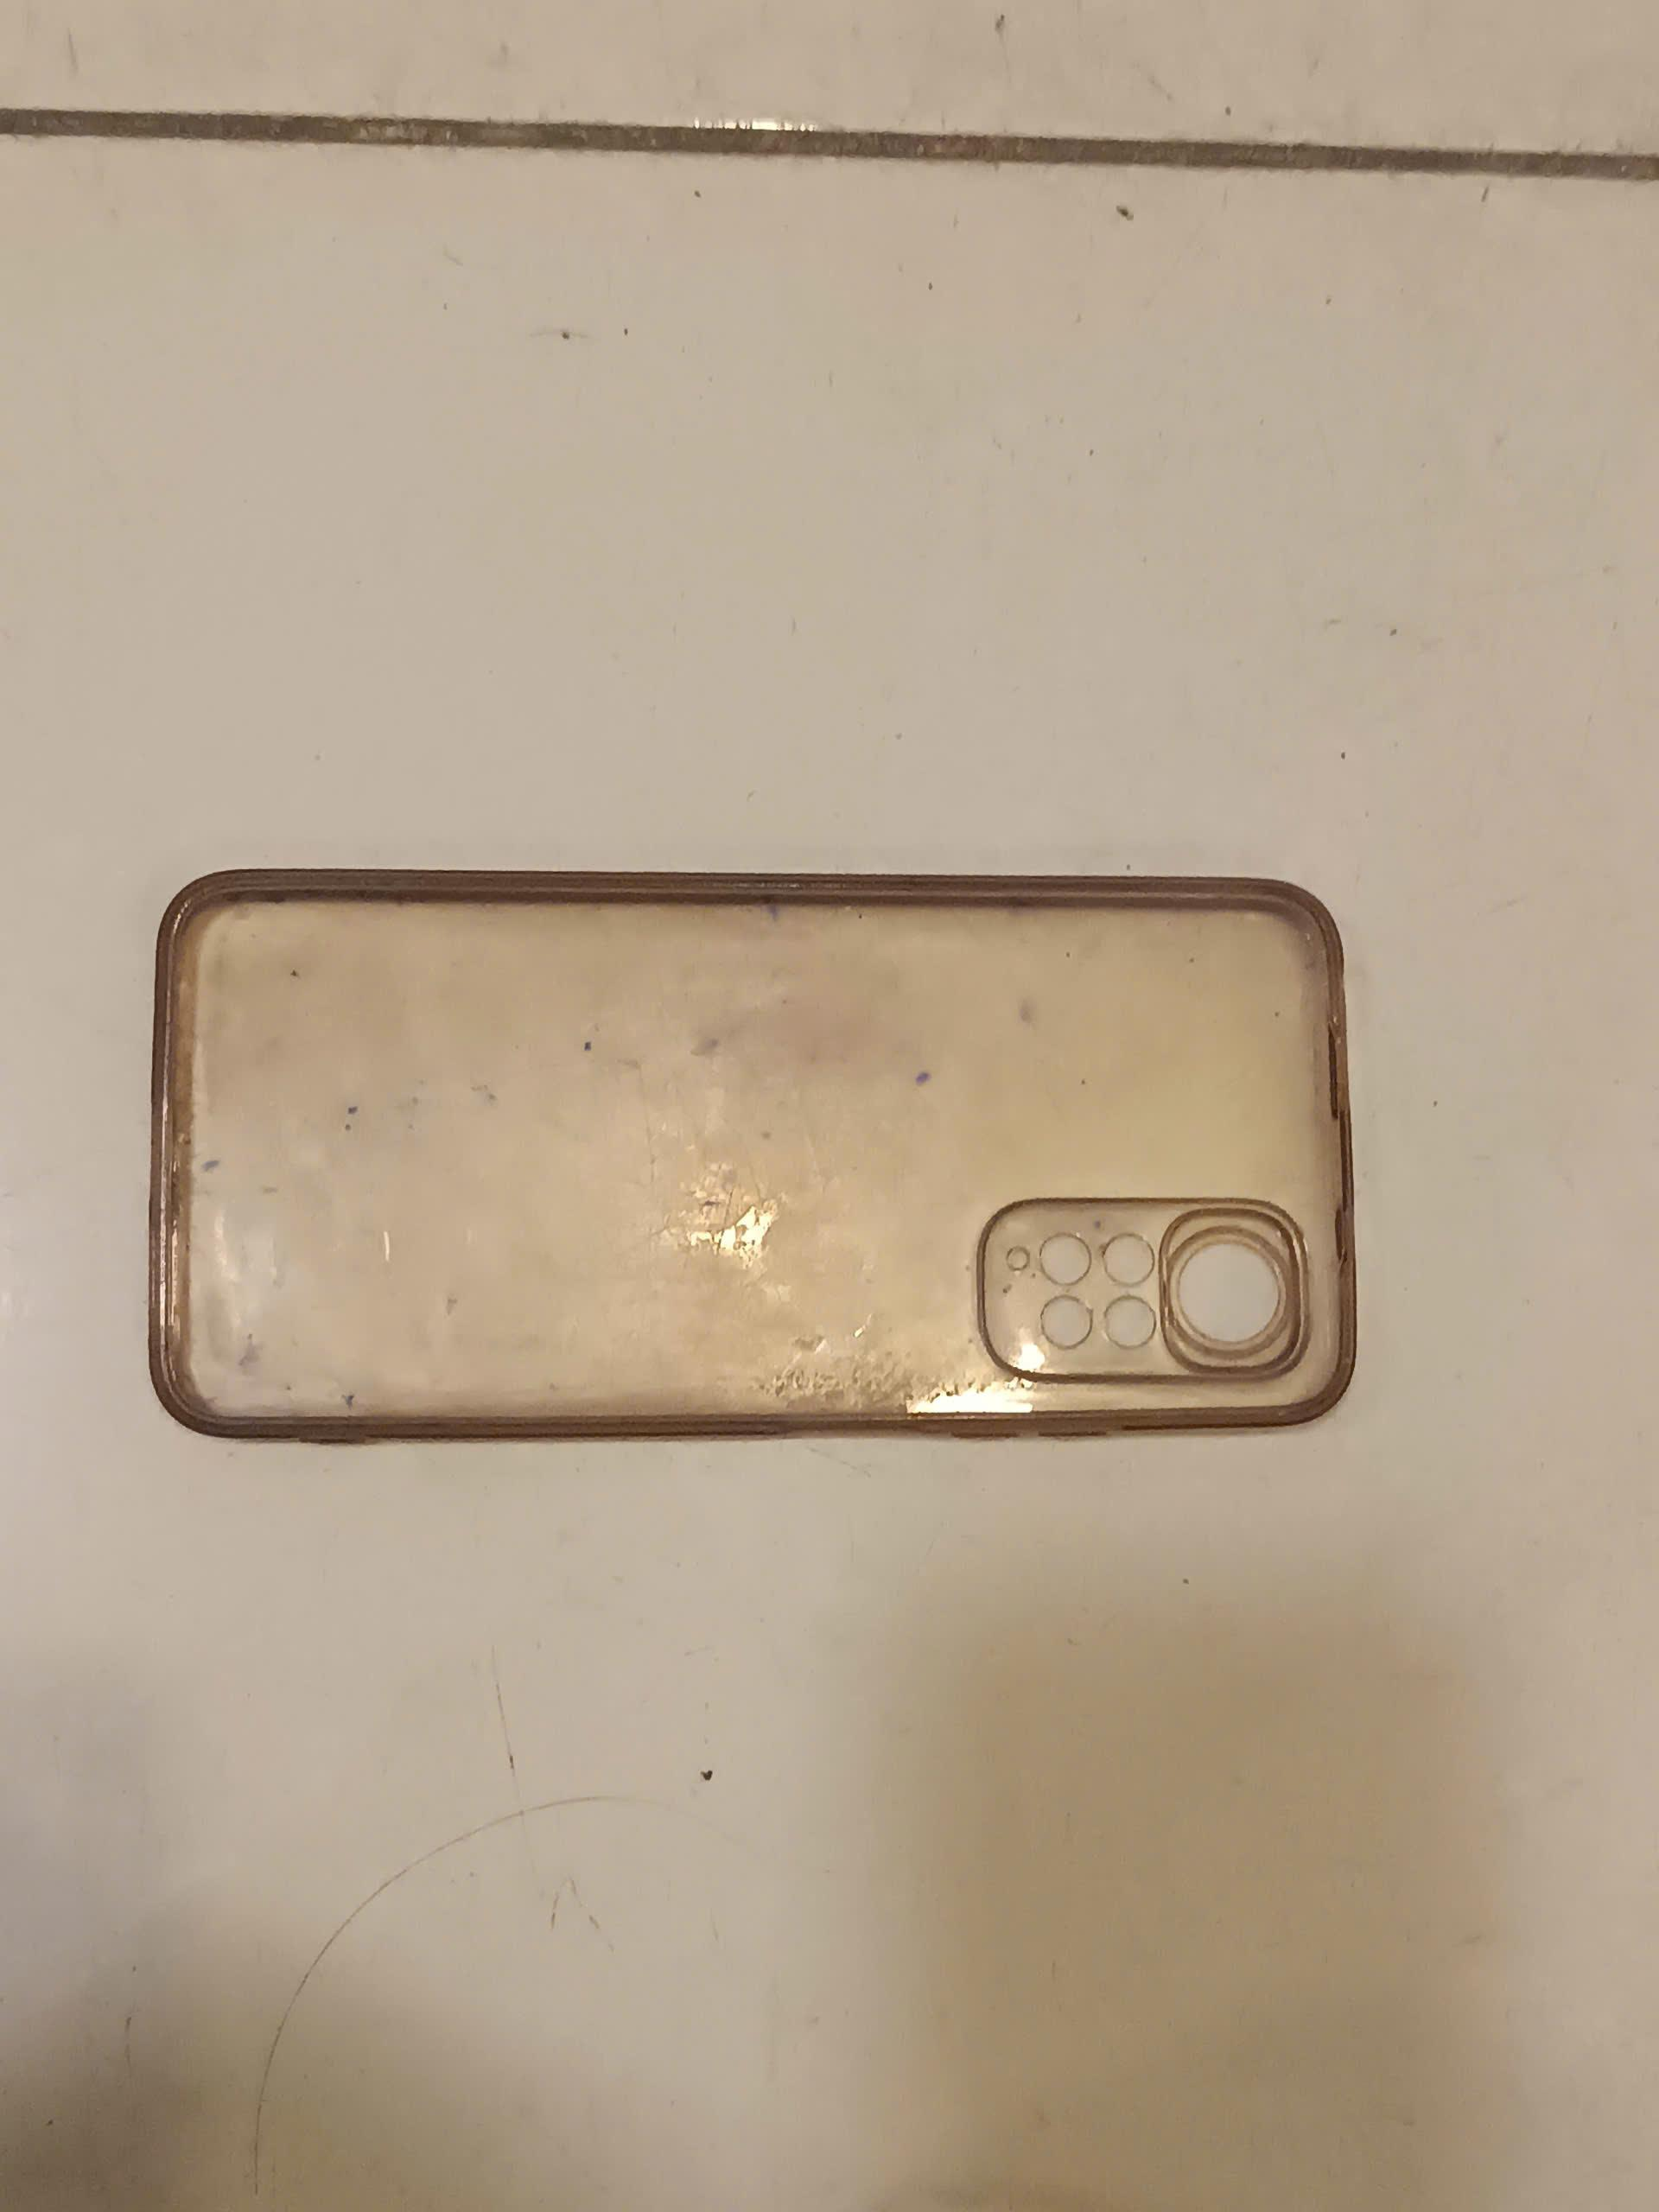Vo co: (151, 861, 1362, 1443)
